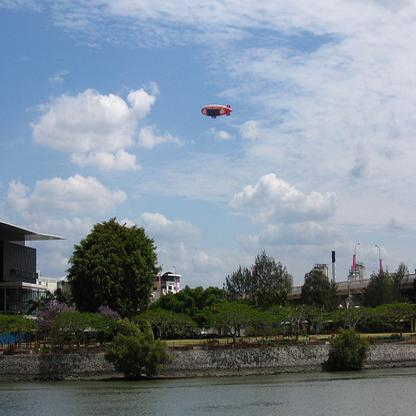Airship: (200, 101, 235, 125)
